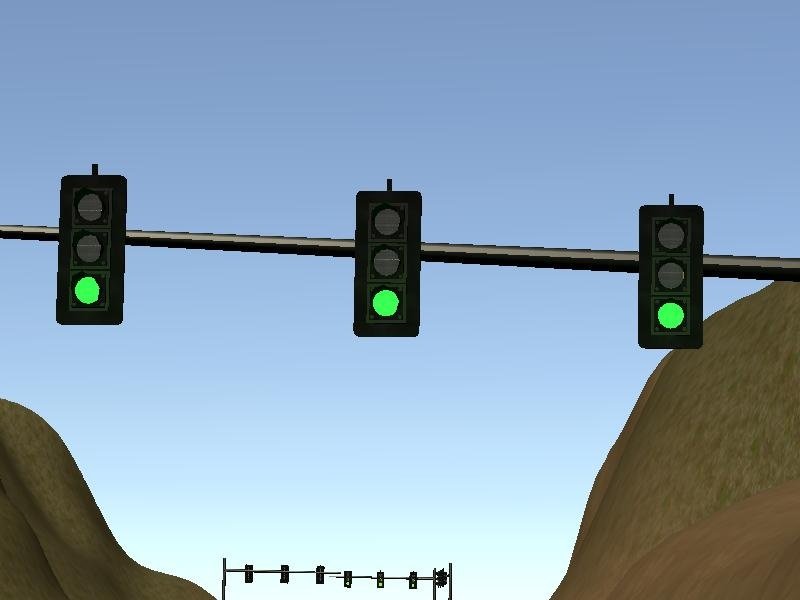GREEN: (56, 173, 129, 326), (354, 191, 421, 338), (636, 204, 703, 351)
